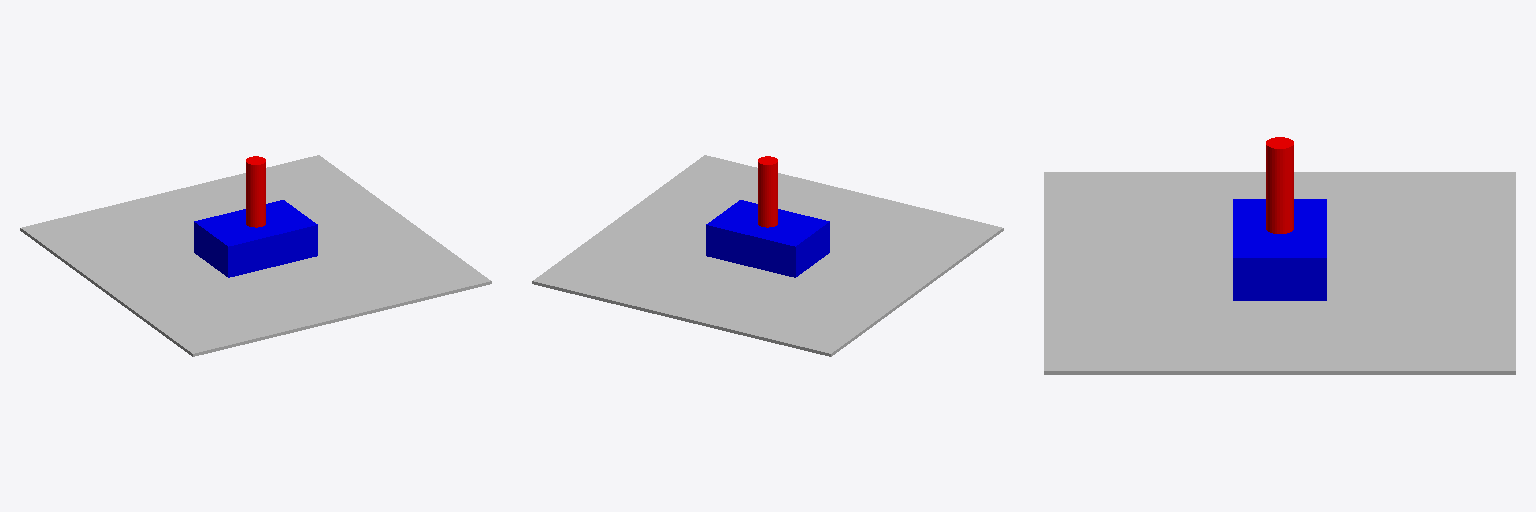
The robot description file, URDF, robot "planar_robot":
<?xml version="1.0"?>
<!-- Robot with planar joint for testing planar joint handling -->
<robot name="planar_robot">
  <link name="world">
    <visual>
      <geometry>
        <box size="1.0 1.0 0.01"/>
      </geometry>
      <material name="gray">
        <color rgba="0.8 0.8 0.8 1"/>
      </material>
    </visual>
  </link>

  <link name="mobile_base">
    <visual>
      <geometry>
        <box size="0.3 0.2 0.1"/>
      </geometry>
      <material name="blue">
        <color rgba="0 0 1 1"/>
      </material>
    </visual>
    <collision>
      <geometry>
        <box size="0.3 0.2 0.1"/>
      </geometry>
    </collision>
    <inertial>
      <mass value="10.0"/>
      <inertia ixx="0.1" ixy="0" ixz="0" iyy="0.15" iyz="0" izz="0.2"/>
    </inertial>
  </link>

  <link name="arm_link">
    <visual>
      <geometry>
        <cylinder radius="0.03" length="0.2"/>
      </geometry>
      <origin xyz="0 0 0.1" rpy="0 0 0"/>
      <material name="red">
        <color rgba="1 0 0 1"/>
      </material>
    </visual>
    <inertial>
      <mass value="0.5"/>
      <origin xyz="0 0 0.1" rpy="0 0 0"/>
      <inertia ixx="0.002" ixy="0" ixz="0" iyy="0.002" iyz="0" izz="0.0005"/>
    </inertial>
  </link>

  <!-- Planar joint allows x, y motion and rotation around z -->
  <joint name="planar_base" type="planar">
    <parent link="world"/>
    <child link="mobile_base"/>
    <origin xyz="0 0 0.055" rpy="0 0 0"/>
    <axis xyz="0 0 1"/>
    <limit lower="-1" upper="1" effort="100" velocity="1"/>
  </joint>

  <joint name="arm_joint" type="revolute">
    <parent link="mobile_base"/>
    <child link="arm_link"/>
    <origin xyz="0 0 0.05" rpy="0 0 0"/>
    <axis xyz="0 0 1"/>
    <limit lower="-3.14159" upper="3.14159" effort="10" velocity="2"/>
  </joint>
</robot>

--- What the picture shows (computed from the rendered views, not written in the file) ---
3 views of the same robot in one strip: view 1: azimuth 30°, elevation 25°; view 2: azimuth 150°, elevation 25°; view 3: azimuth 270°, elevation 25° (orthographic).
Model planar_robot with 3 links and 2 joints (1 revolute, 1 planar), rooted at world, posed all joints at 0.
Links seen in each view (by area): view 1: world, mobile_base, arm_link; view 2: world, mobile_base, arm_link; view 3: world, mobile_base, arm_link.
Link boxes in pixels (x1=…): world: x1=20, y1=155, x2=491, y2=356; mobile_base: x1=194, y1=200, x2=317, y2=277; arm_link: x1=246, y1=156, x2=265, y2=227; world: x1=532, y1=155, x2=1003, y2=356; mobile_base: x1=706, y1=200, x2=829, y2=277; arm_link: x1=758, y1=156, x2=777, y2=227; world: x1=1044, y1=172, x2=1515, y2=374; mobile_base: x1=1233, y1=199, x2=1326, y2=300; arm_link: x1=1266, y1=137, x2=1293, y2=233.
Size in the robot's own frame: 1 by 1 by 0.31 metres.
Geometry: primitives only (box / cylinder / sphere), no mesh files.